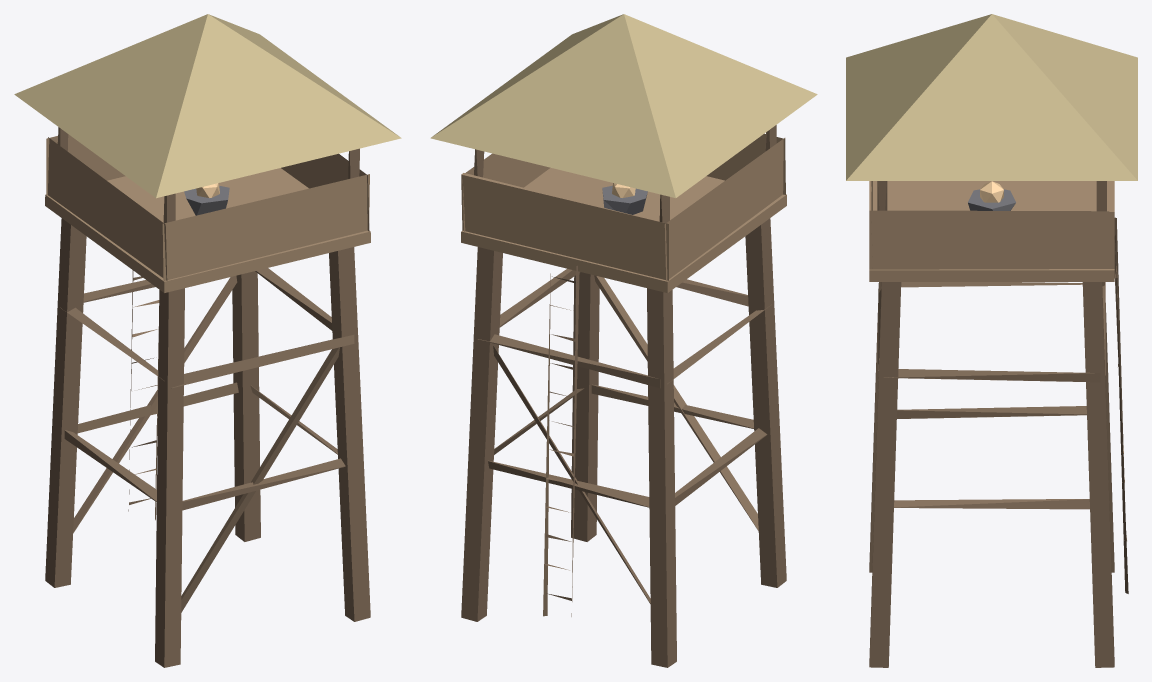
File: tower_lod1.glb
The picture shows the model from 3 angles, left to right: view 1: azimuth 30°, elevation 25°; view 2: azimuth 150°, elevation 25°; view 3: azimuth 270°, elevation 25°; orthographic projection. The views are drawn at different scales.
Visible parts, largest first — view 1: tower.001; view 2: tower.001; view 3: tower.001.
Boxes of the visible parts, <box> form: tower.001: <box>14,14,401,667</box>; tower.001: <box>430,14,817,667</box>; tower.001: <box>846,14,1137,667</box>.
Bounding box in the file's own units: 4.53 × 10.31 × 4.53.
